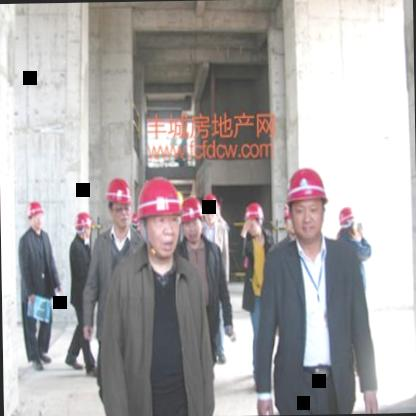helmet: (136, 171, 184, 266), (284, 164, 330, 244), (104, 174, 132, 232), (242, 200, 272, 240), (22, 198, 50, 236), (199, 190, 225, 230), (180, 194, 202, 239), (334, 206, 361, 240), (70, 210, 93, 243)
